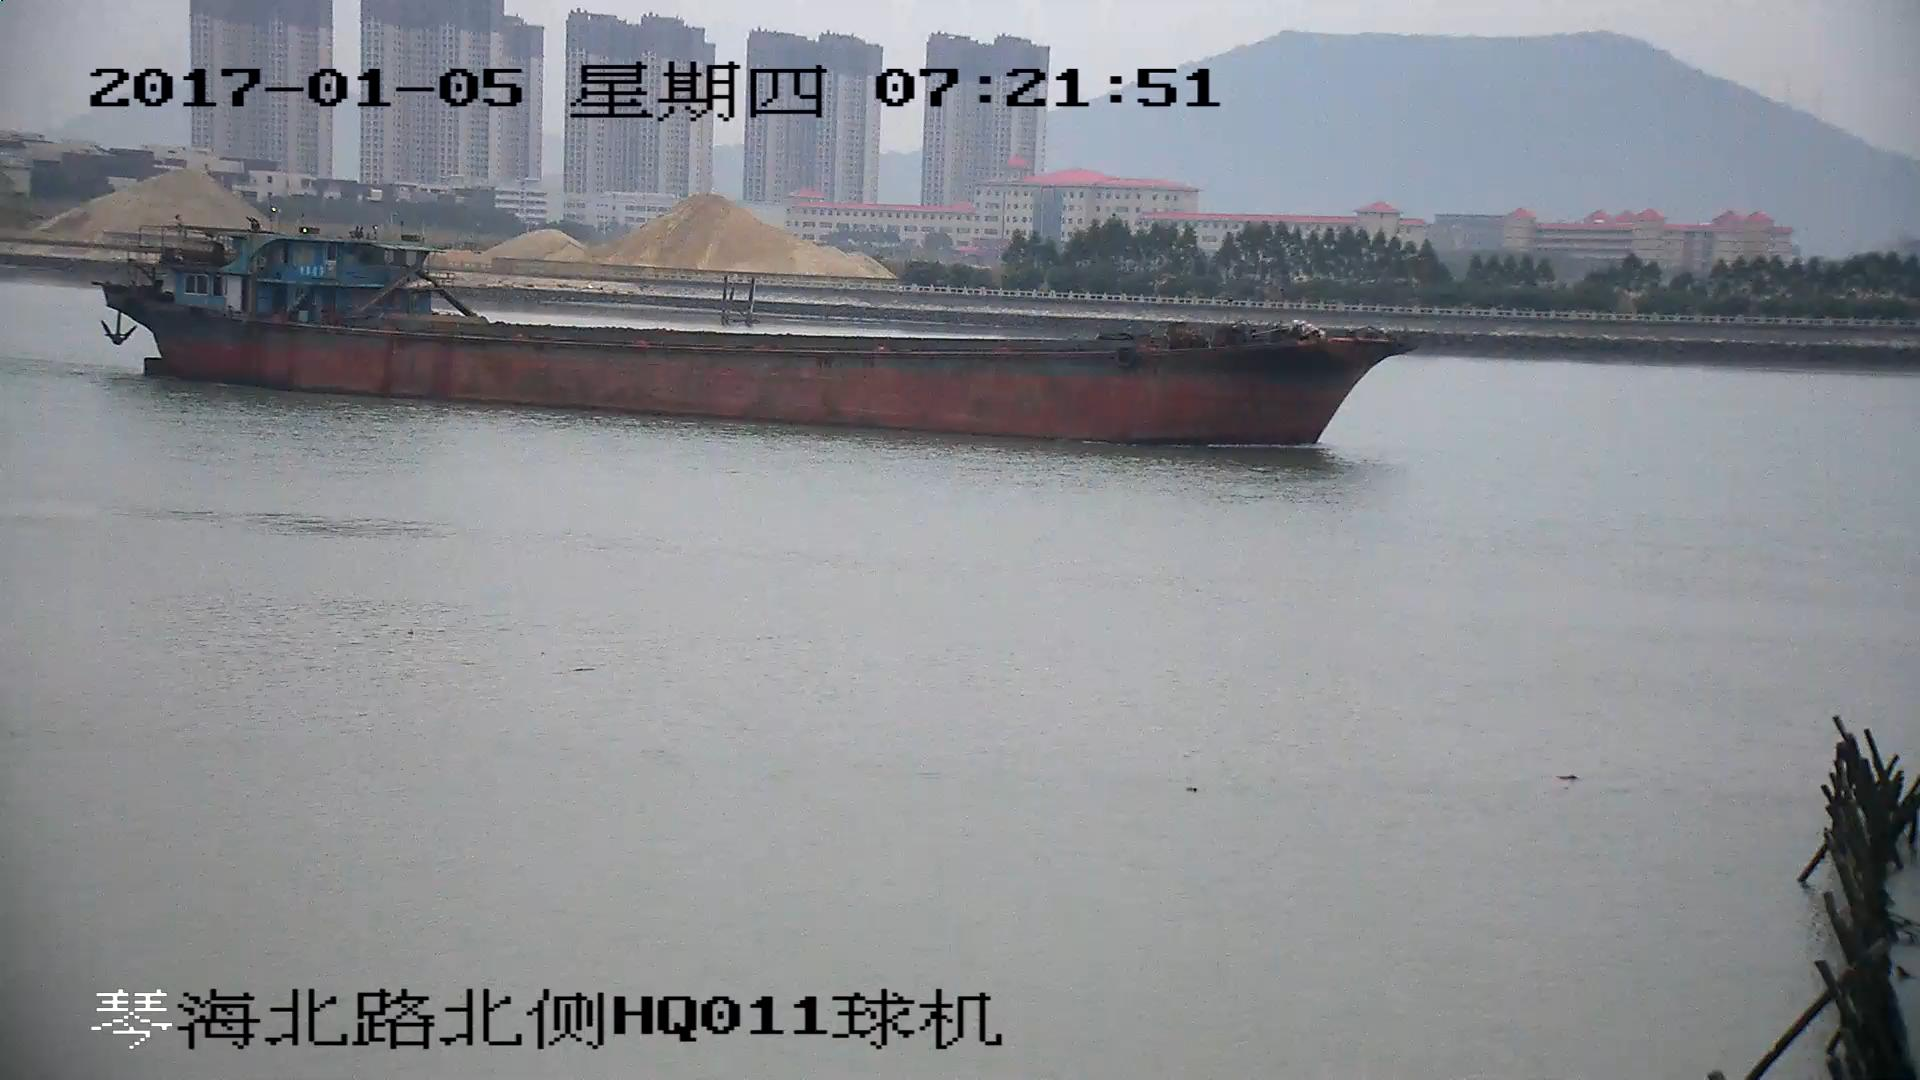bulk cargo carrier: (98, 223, 1412, 442)
